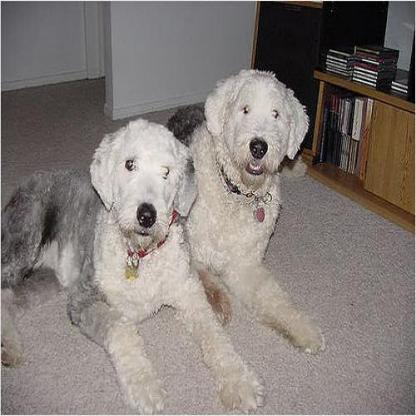Old_English_sheepdog: (2, 118, 270, 414), (166, 69, 324, 354)
